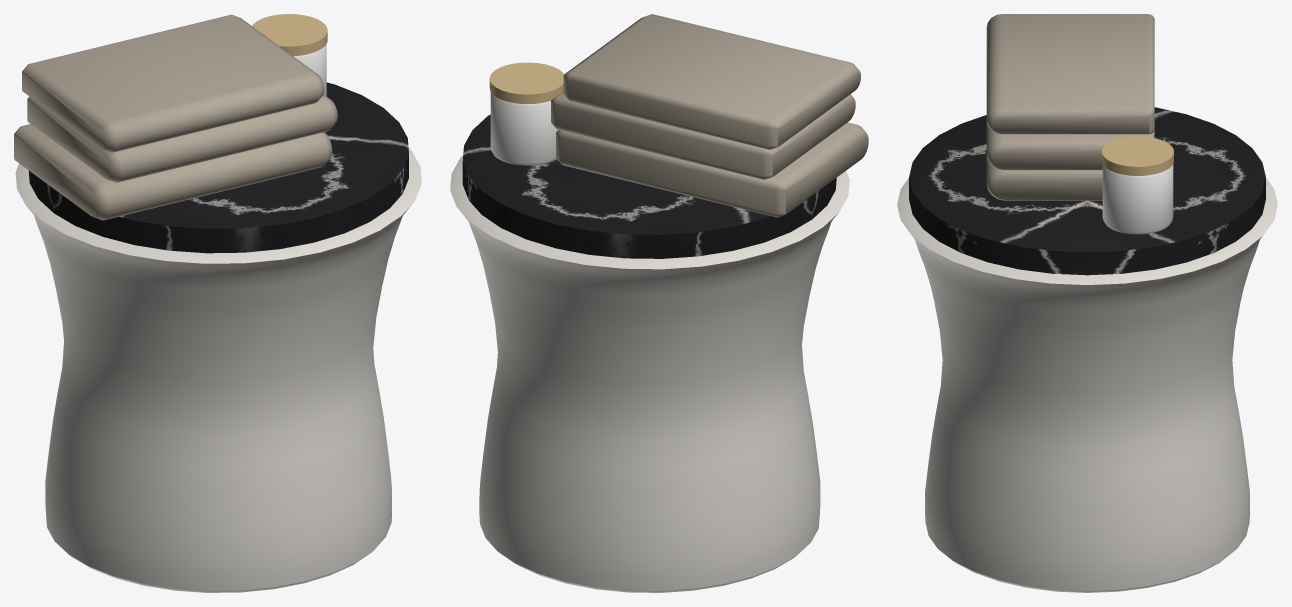
The model's file is bath_stool.gltf.
3 views of the same model, side by side, from view 1: azimuth 30°, elevation 25°; view 2: azimuth 150°, elevation 25°; view 3: azimuth 270°, elevation 25° (orthographic). The views are drawn at different scales.
Visible parts, largest first — view 1: BathStool_Body, BathStool_Towels, BathStool_Top, BathStool_Lid, BathStool_Jar; view 2: BathStool_Body, BathStool_Towels, BathStool_Top, BathStool_Jar, BathStool_Lid; view 3: BathStool_Body, BathStool_Top, BathStool_Towels, BathStool_Jar, BathStool_Lid.
Part boxes in pixels (left/top/right/bottom): BathStool_Body: left=15, top=148, right=421, bottom=592; BathStool_Towels: left=14, top=14, right=337, bottom=220; BathStool_Top: left=28, top=82, right=408, bottom=253; BathStool_Lid: left=252, top=14, right=327, bottom=56; BathStool_Jar: left=293, top=44, right=326, bottom=95; BathStool_Body: left=450, top=155, right=849, bottom=592; BathStool_Towels: left=550, top=14, right=868, bottom=217; BathStool_Top: left=462, top=114, right=836, bottom=258; BathStool_Jar: left=490, top=92, right=558, bottom=165; BathStool_Lid: left=489, top=62, right=563, bottom=104; BathStool_Body: left=897, top=178, right=1277, bottom=592; BathStool_Top: left=909, top=107, right=1265, bottom=275; BathStool_Towels: left=986, top=14, right=1154, bottom=200; BathStool_Jar: left=1102, top=164, right=1173, bottom=234; BathStool_Lid: left=1101, top=136, right=1173, bottom=175.
Bounding box in the file's own units: 0.4527 × 0.5805 × 0.4527.
5 materials, 1 textured.
